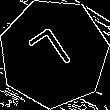L_SE: (27, 24, 81, 83)
